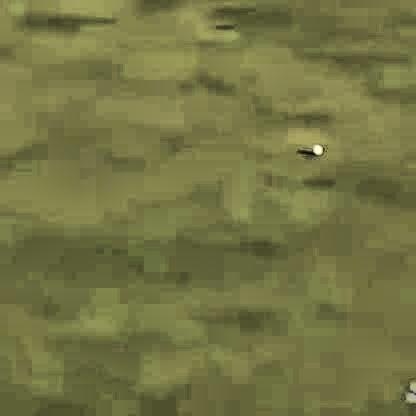golfball: (308, 138, 319, 151)
